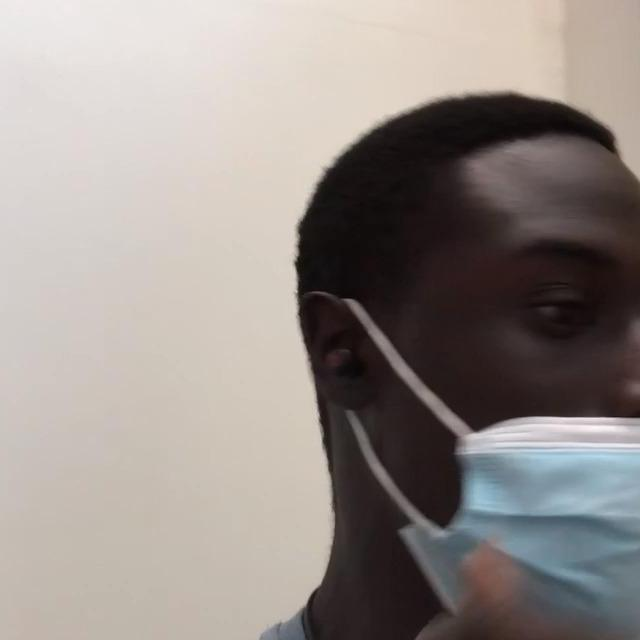Mask: (303, 297, 640, 640)
NO-Hardhat: (308, 92, 640, 207)
Person: (0, 90, 640, 640)
